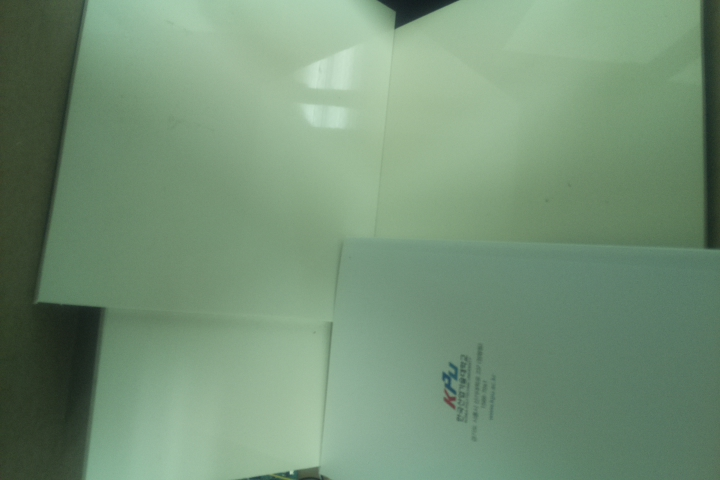book: (314, 232, 719, 480)
